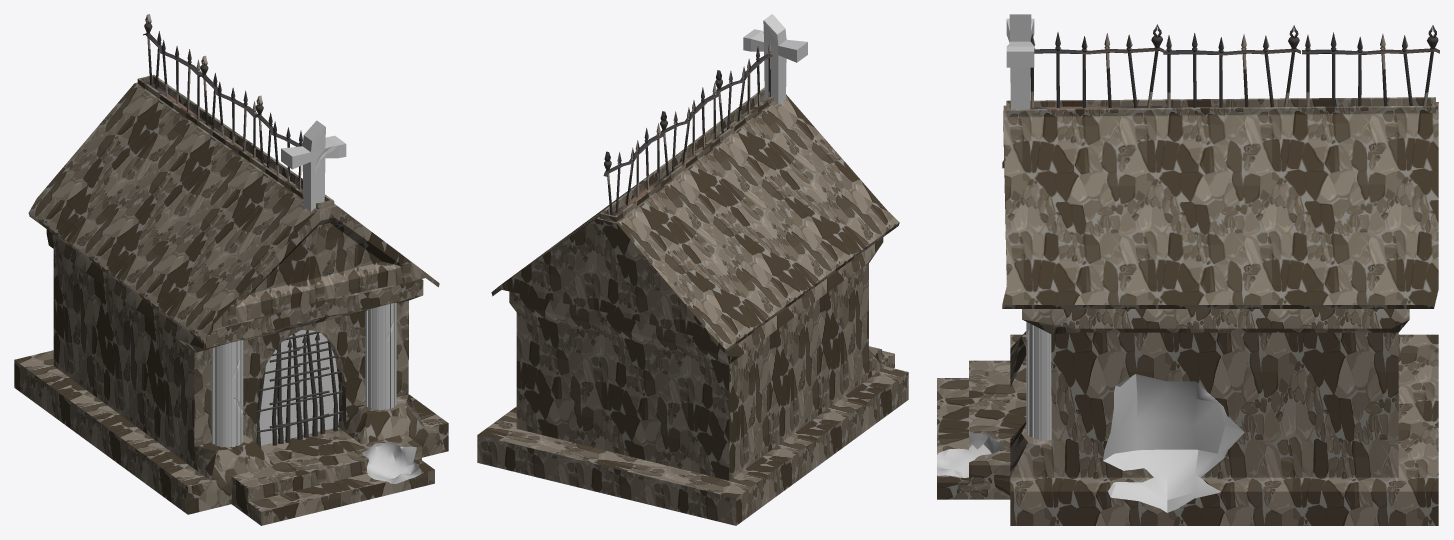
File: Halloween_Tomb.fbx
The picture shows the model from 3 angles, left to right: view 1: azimuth 30°, elevation 25°; view 2: azimuth 150°, elevation 25°; view 3: azimuth 270°, elevation 25°; orthographic projection. The views are drawn at different scales.
Visible parts, largest first — view 1: Ruintomb, Ironfence, Column1, Column, Cross; view 2: Ruintomb, Ironfence, Cross; view 3: Ruintomb, Ironfence, Column, Cross.
Boxes of the visible parts, x1,y1,x2,y2 form: Ruintomb: (14,75,448,525); Ironfence: (143,14,343,448); Column1: (211,340,243,447); Column: (365,302,396,410); Cross: (281,120,346,211); Ruintomb: (477,87,908,525); Ironfence: (603,41,772,221); Cross: (743,14,807,104); Ruintomb: (937,97,1438,525); Ironfence: (1030,24,1439,110); Column: (1026,322,1051,440); Cross: (1006,14,1034,109).
Size of the model in its own units: 598 by 777 by 809.
